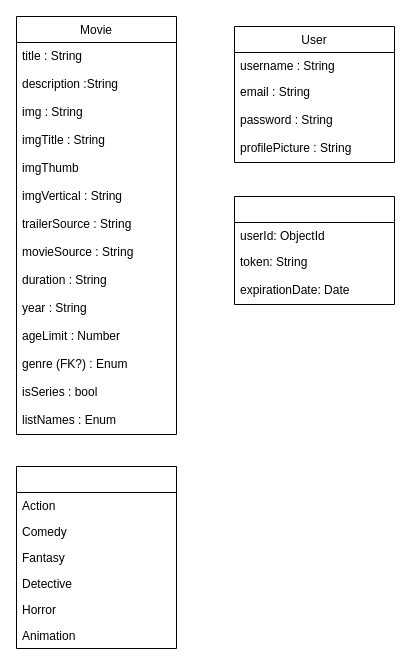
Some shapes in this 411 by 665 pixel diagram are drawn without their labels. The shapes that lost their labels are listed below. From the top down, each one's box as (x1, y1, x2, y2) in pixels, then its label:
(234, 196, 394, 304): resetToken
(16, 466, 176, 648): genres
